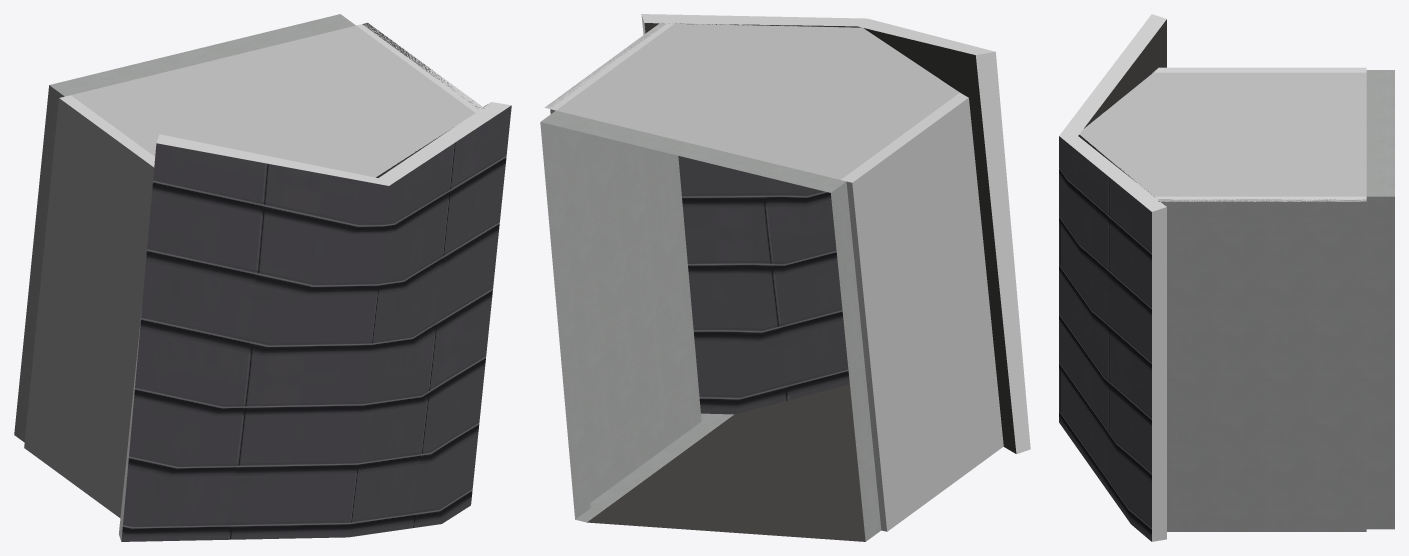
File: Aia_6_3-origo.obj
3 renders of one model, left to right at view 1: azimuth 30°, elevation 25°; view 2: azimuth 150°, elevation 25°; view 3: azimuth 270°, elevation 25°, orthographic. The views are drawn at different scales.
Visible parts, largest first — view 1: Aia_6_3; view 2: Aia_6_3; view 3: Aia_6_3.
Part boxes in pixels (x1,y1,x2,y2): Aia_6_3: (14,14,511,541); Aia_6_3: (540,14,1030,541); Aia_6_3: (1059,14,1394,541).
Bounding box in the file's own units: 4.19 × 4.5 × 3.5.
